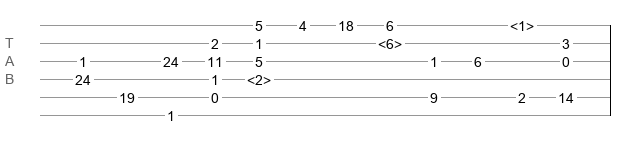0: (211, 90, 219, 100), (562, 54, 570, 64)
1: (79, 54, 87, 64), (167, 108, 175, 118), (211, 72, 219, 82), (255, 36, 263, 46), (430, 54, 438, 64)
11: (207, 54, 223, 64)
14: (558, 90, 574, 100)
18: (338, 18, 354, 28)
19: (119, 90, 135, 100)
2: (211, 36, 219, 46), (518, 90, 526, 100)
24: (75, 72, 91, 82), (163, 54, 179, 64)
3: (562, 36, 570, 46)
4: (299, 18, 307, 28)
5: (255, 18, 263, 28), (255, 54, 263, 64)
6: (386, 18, 394, 28), (474, 54, 482, 64)
9: (430, 90, 438, 100)
harmonic: (247, 72, 271, 82), (378, 36, 402, 46), (510, 18, 534, 28)
